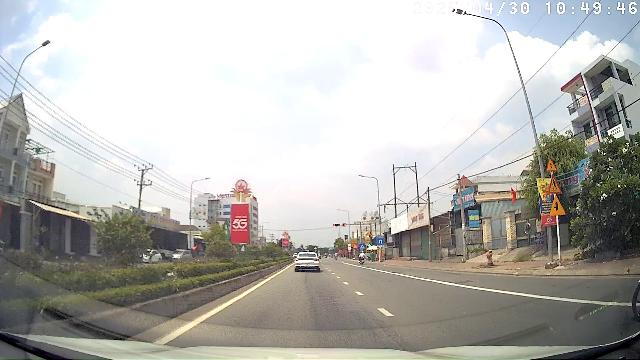423a-duong-nguoi-di-bo-sang-ngang-1: (359, 243, 365, 250)
